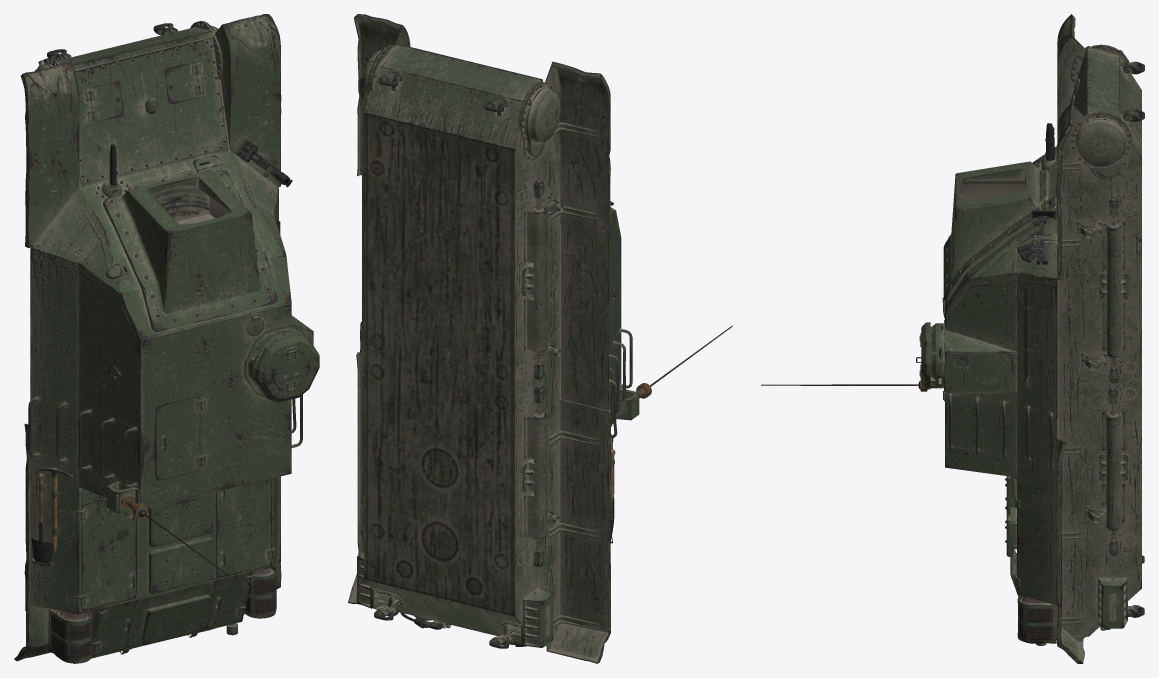
Rendered from Hull.glb.
3 renders of one model, left to right at view 1: azimuth 30°, elevation 25°; view 2: azimuth 150°, elevation 25°; view 3: azimuth 270°, elevation 25°, orthographic. The views are drawn at different scales.
Parts seen in each view (by area): view 1: set_0_group_0; view 2: set_0_group_0; view 3: set_0_group_0.
Boxes of the visible parts, x1,y1,x2,y2 form: set_0_group_0: (14,14,319,663); set_0_group_0: (348,14,732,663); set_0_group_0: (761,14,1144,663).
Bounding box in the file's own units: 2.91 × 6.43 × 4.09.
1 material, 1 textured.
